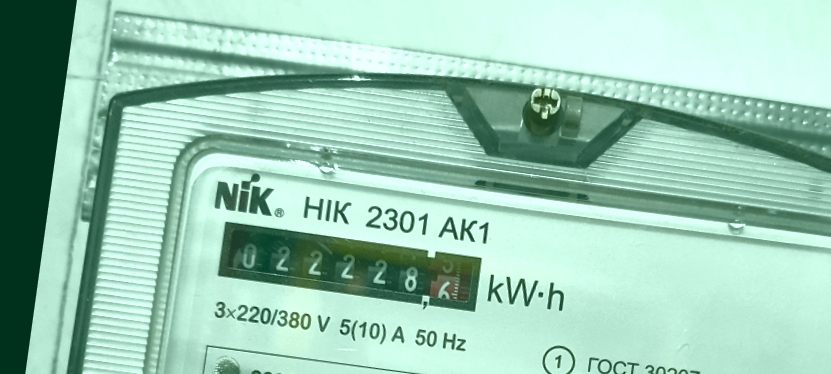0: (238, 239, 258, 270)
2: (271, 242, 293, 273), (369, 256, 390, 287), (305, 247, 325, 277), (337, 251, 357, 280)
5: (438, 253, 456, 275)
6: (434, 276, 453, 299)
8: (401, 263, 420, 293)
screen: (207, 209, 493, 321)
